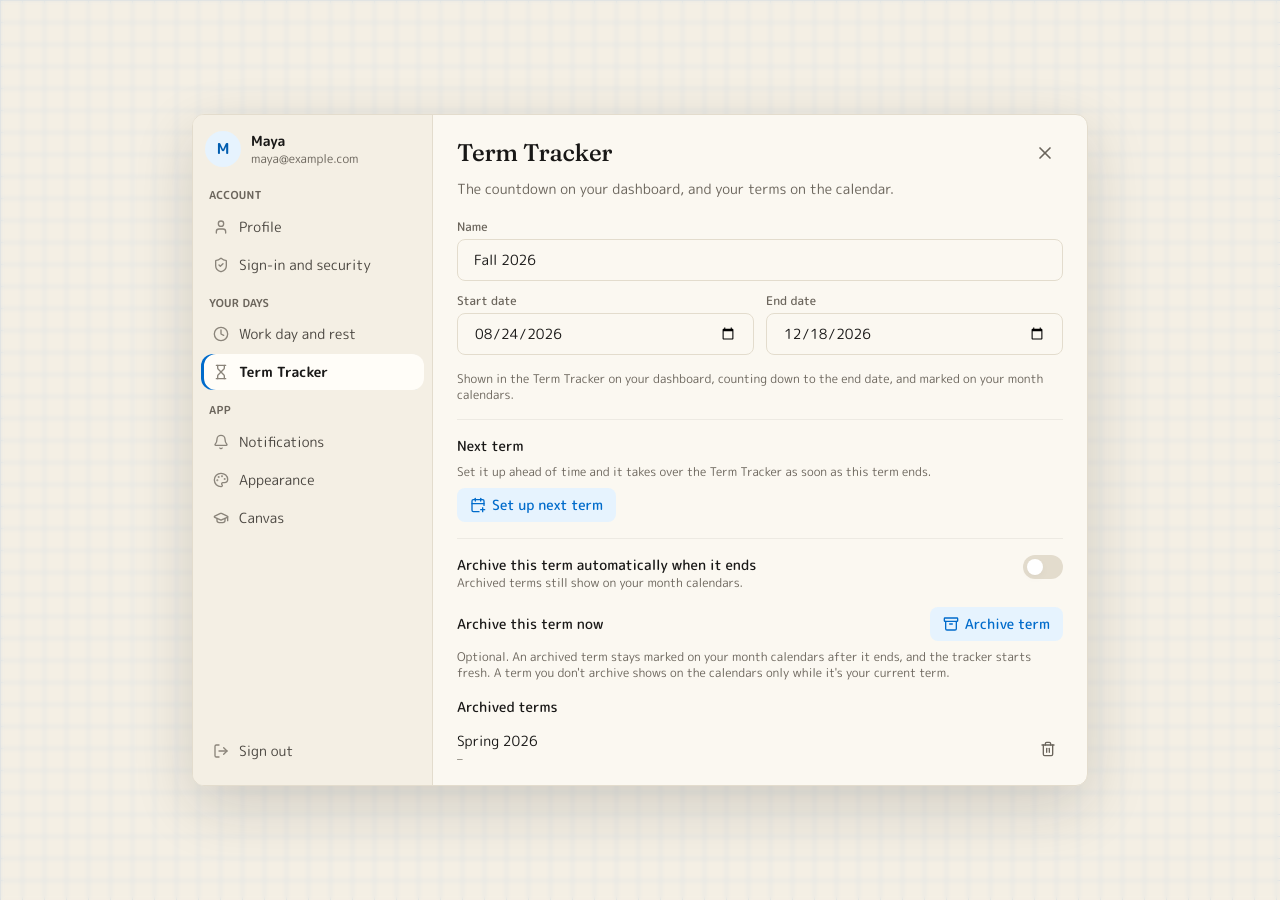
SettingsModal autosave › keeps the archive confirm open and says so when archiving fails
The width and height of the screenshot is (1280, 900).
Click the button "Archive term" at (996, 624), box x1=930 y1=607 x2=1063 y2=641
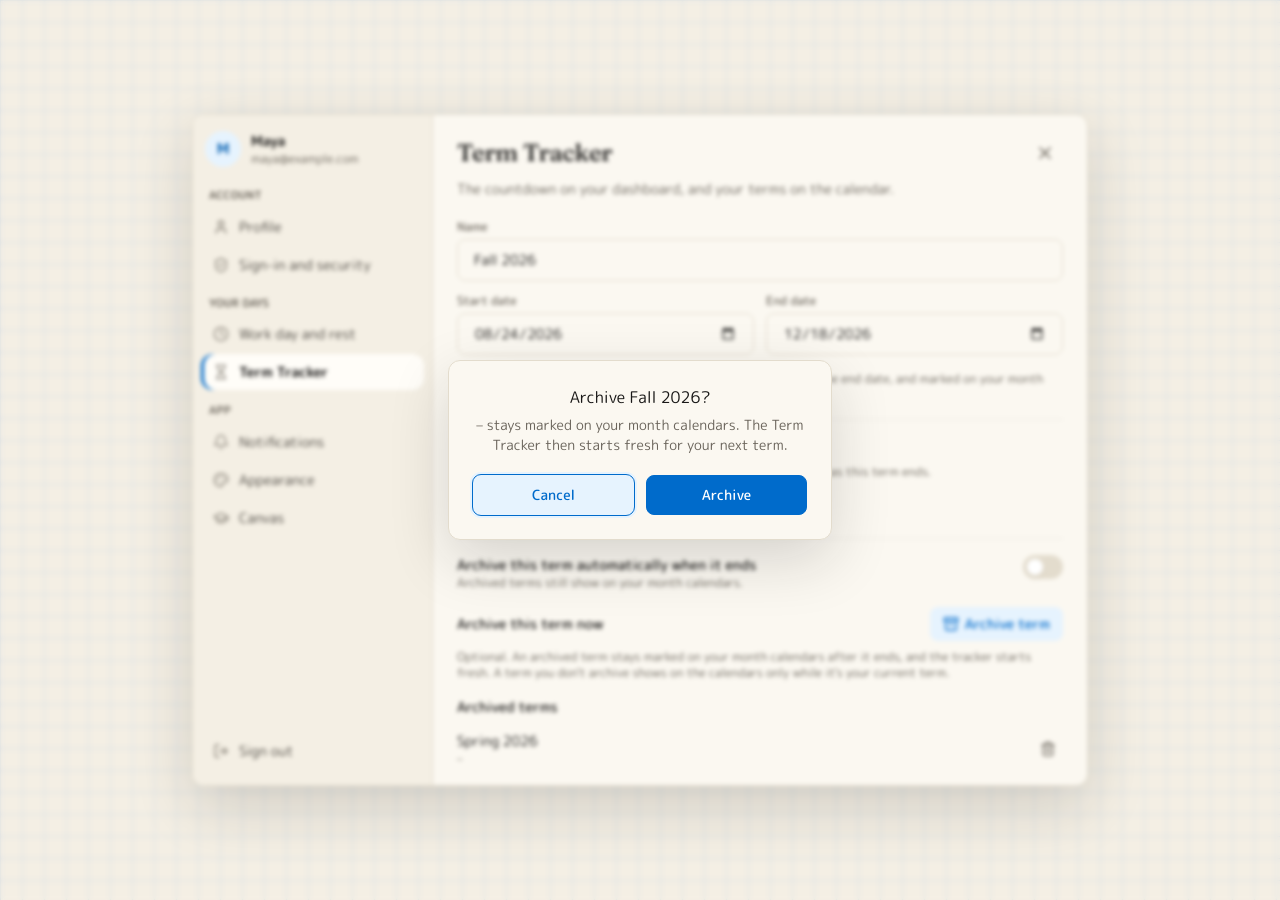
Click the button "Archive" at (726, 495), box x1=646 y1=475 x2=807 y2=515
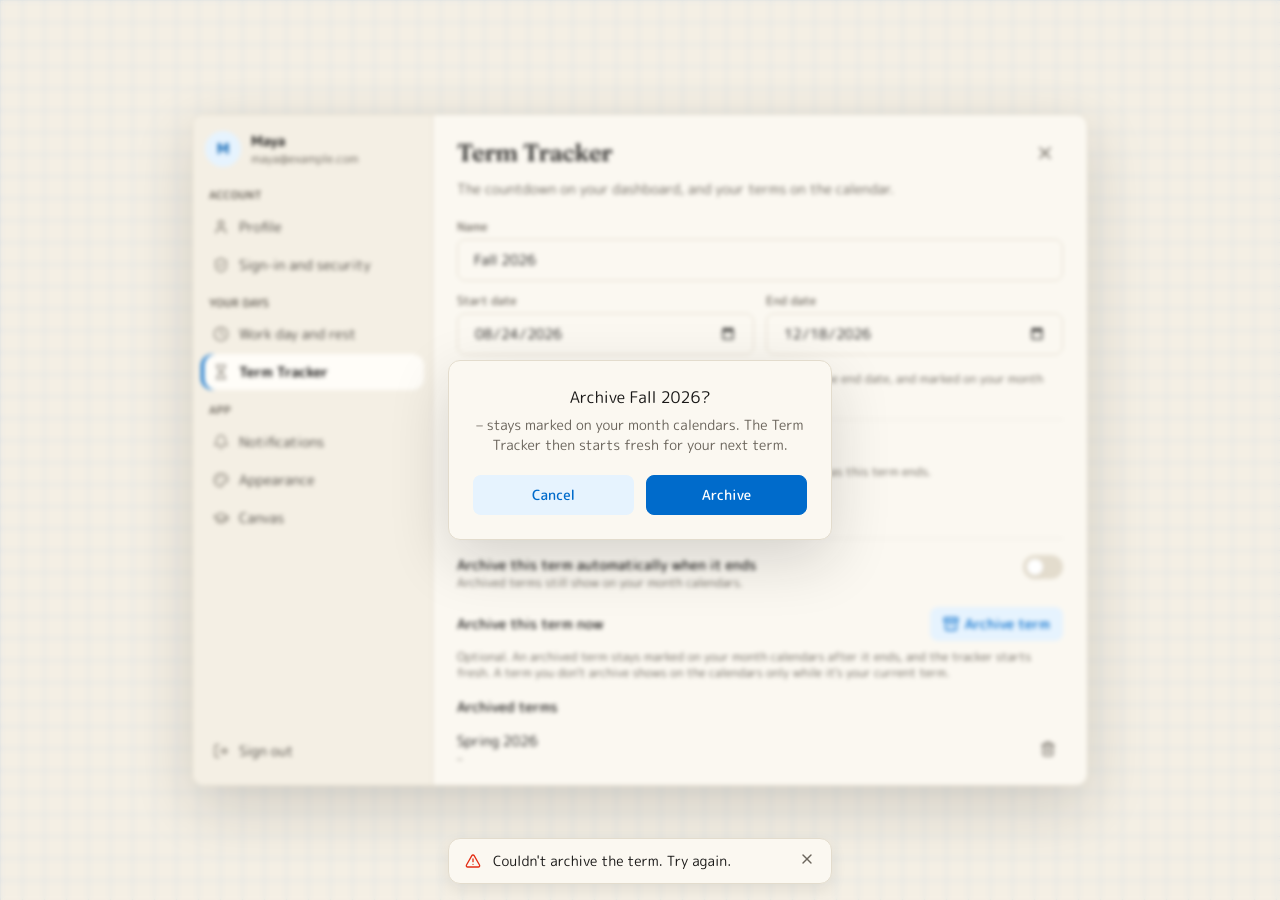
expect the dialog is shown: met, box x1=473 y1=385 x2=807 y2=515
expect the text "Couldn't archive the term. Try again." is shown: met, box x1=493 y1=851 x2=731 y2=870
